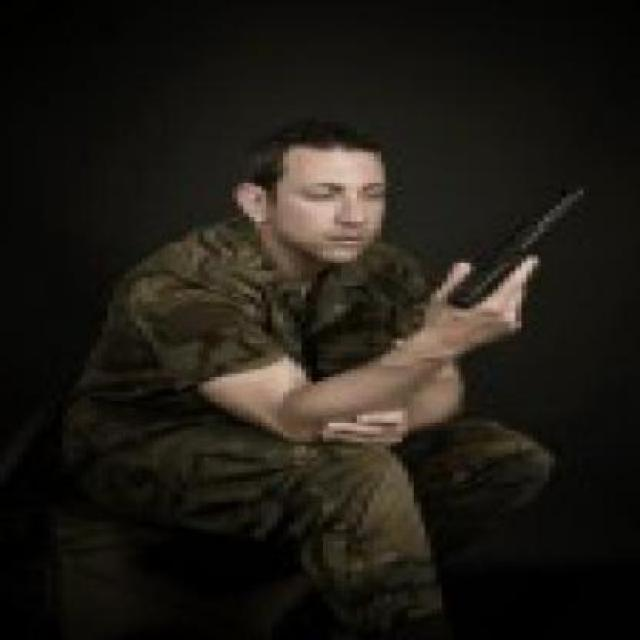gun: (428, 180, 598, 400)
